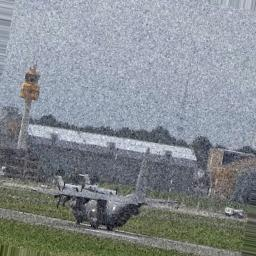Airplane: (44, 168, 179, 232)
